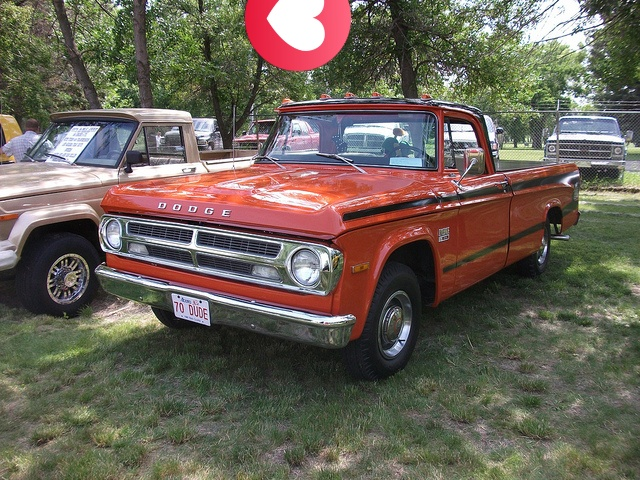love: (245, 0, 351, 71)
